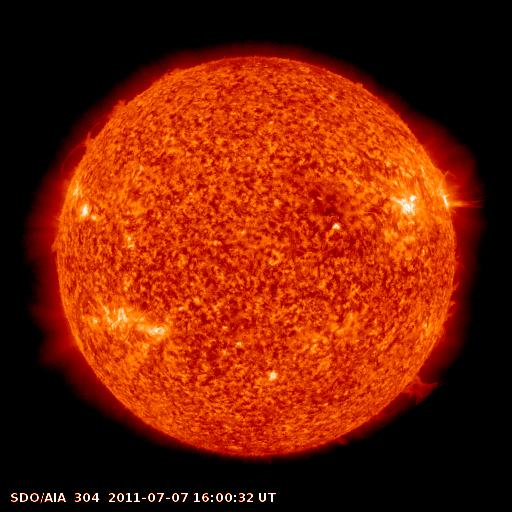prominence: (56, 95, 130, 179), (438, 176, 494, 228), (395, 363, 444, 412), (438, 260, 467, 319)
